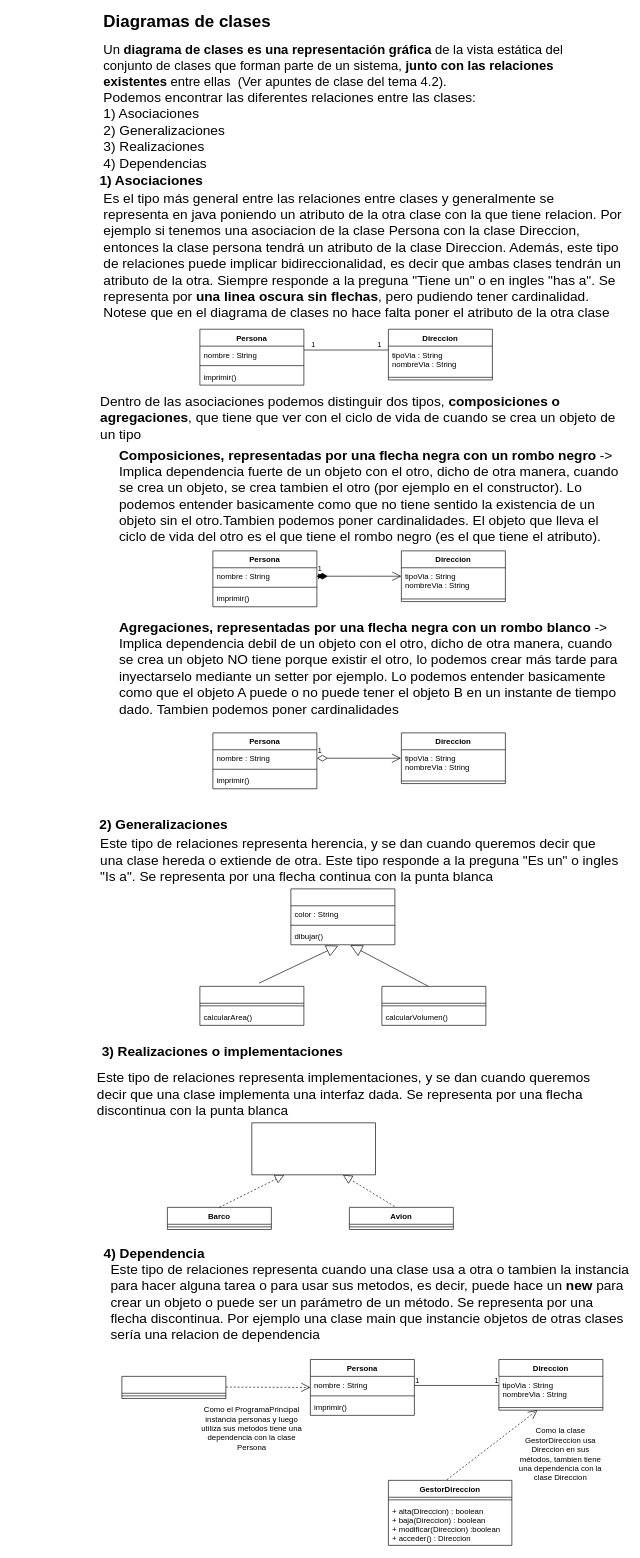
This 640x1558 diagram has some shape labels left out. Each missing label, with the box of its shape:
<<Interface>> Movible + moverseLento() + moverseRapido(): (251, 1122, 375, 1175)
Figura: (290, 888, 395, 945)
Figura2D: (199, 986, 304, 1025)
Figura3D: (381, 986, 486, 1025)
ProgramaPrincipal: (121, 1376, 226, 1398)
